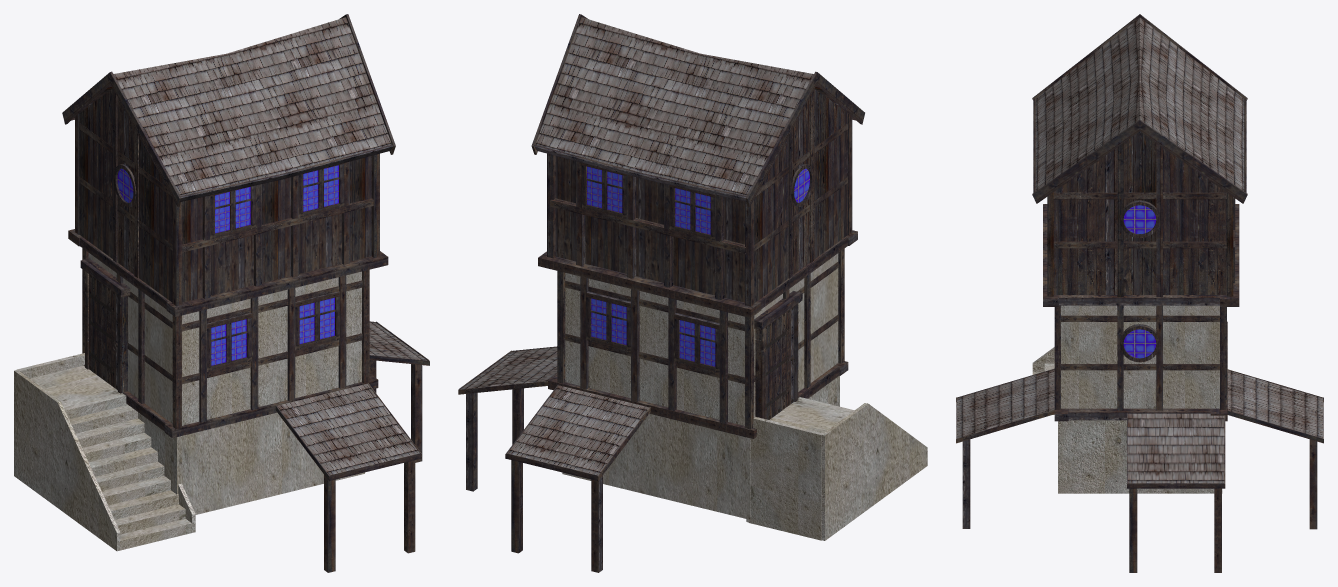
The model's file is house87.dae.
3 views of the same model, side by side, from view 1: azimuth 30°, elevation 25°; view 2: azimuth 150°, elevation 25°; view 3: azimuth 270°, elevation 25° (orthographic). The views are drawn at different scales.
Parts seen in each view (by area): view 1: House6_Roof, House6_Level2, House6_Level1, Stair1Wide, House6_Level0, House6_Level2_Beams, House6_Level1_Beams, Stair1Wide2, Roof2Outer, House6_Level1_SeperatorBeams, House6_Roof_Frame, Door1 (+15 smaller); view 2: House6_Roof, House6_Level2, House6_Level1, House6_Level0, House6_Level2_Beams, House6_Level1_Beams, Stair1Wide2, Stair1WideBack, Roof2Outer_001, House6_Level1_SeperatorBeams, House6_Roof_Frame, Door1 (+16 smaller); view 3: House6_Roof, House6_Level2, House6_Level1, Roof2Outer_002, House6_Level2_Beams, House6_Level0, House6_Level1_Beams, House6_Roof_Frame, Roof2Outer, Roof2Outer_001, House6_Level1_SeperatorBeams, House6_Level0_SeperatorBeams (+10 smaller).
Part boxes in pixels (box(x1,y1,x2,y2)): House6_Roof: box(113, 17, 391, 195); House6_Level2: box(79, 89, 371, 302); House6_Level1: box(88, 253, 361, 425); Stair1Wide: box(30, 365, 191, 550); House6_Level0: box(138, 412, 364, 514); House6_Level2_Beams: box(75, 89, 379, 306); House6_Level1_Beams: box(82, 248, 369, 428); Stair1Wide2: box(14, 370, 120, 551); Roof2Outer: box(277, 383, 419, 475); House6_Level1_SeperatorBeams: box(68, 229, 388, 316); House6_Roof_Frame: box(62, 14, 395, 206); Door1: box(89, 274, 117, 389); House6_Roof: box(535, 17, 813, 195); House6_Level2: box(555, 89, 848, 302); House6_Level1: box(565, 253, 838, 425); House6_Level0: box(562, 375, 839, 519); House6_Level2_Beams: box(547, 89, 852, 306); House6_Level1_Beams: box(557, 248, 844, 429); Stair1Wide2: box(822, 403, 927, 540); Stair1WideBack: box(748, 416, 823, 540); Roof2Outer_001: box(507, 385, 649, 475); House6_Level1_SeperatorBeams: box(538, 230, 857, 317); House6_Roof_Frame: box(531, 14, 864, 206); Door1: box(765, 307, 794, 419); House6_Roof: box(1035, 18, 1244, 190); House6_Level2: box(1053, 131, 1226, 294); House6_Level1: box(1061, 305, 1219, 408); Roof2Outer_002: box(1127, 413, 1224, 483); House6_Level2_Beams: box(1047, 143, 1235, 296); House6_Level0: box(1058, 420, 1222, 493); House6_Level1_Beams: box(1054, 305, 1226, 410); House6_Roof_Frame: box(1032, 14, 1247, 203); Roof2Outer: box(957, 369, 1054, 438); Roof2Outer_001: box(1227, 370, 1322, 438); House6_Level1_SeperatorBeams: box(1043, 204, 1239, 306); House6_Level0_SeperatorBeams: box(1054, 321, 1227, 421).
Size of the model in its own units: 7.99 by 7.61 by 9.63.
Materials: 13 (13 with a texture image).
